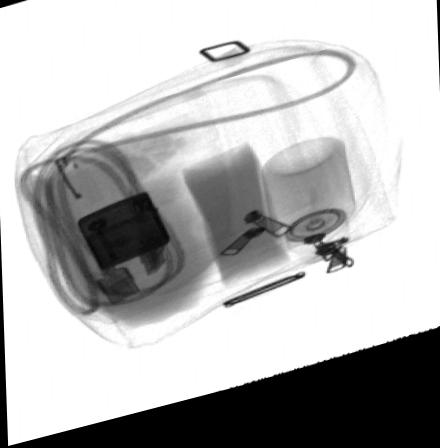Lighter: (77, 197, 170, 277)
Sprayer: (261, 152, 355, 283)
